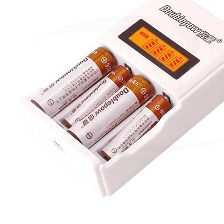battery: (26, 43, 118, 119), (65, 72, 156, 148), (100, 90, 171, 165), (60, 61, 133, 129)
